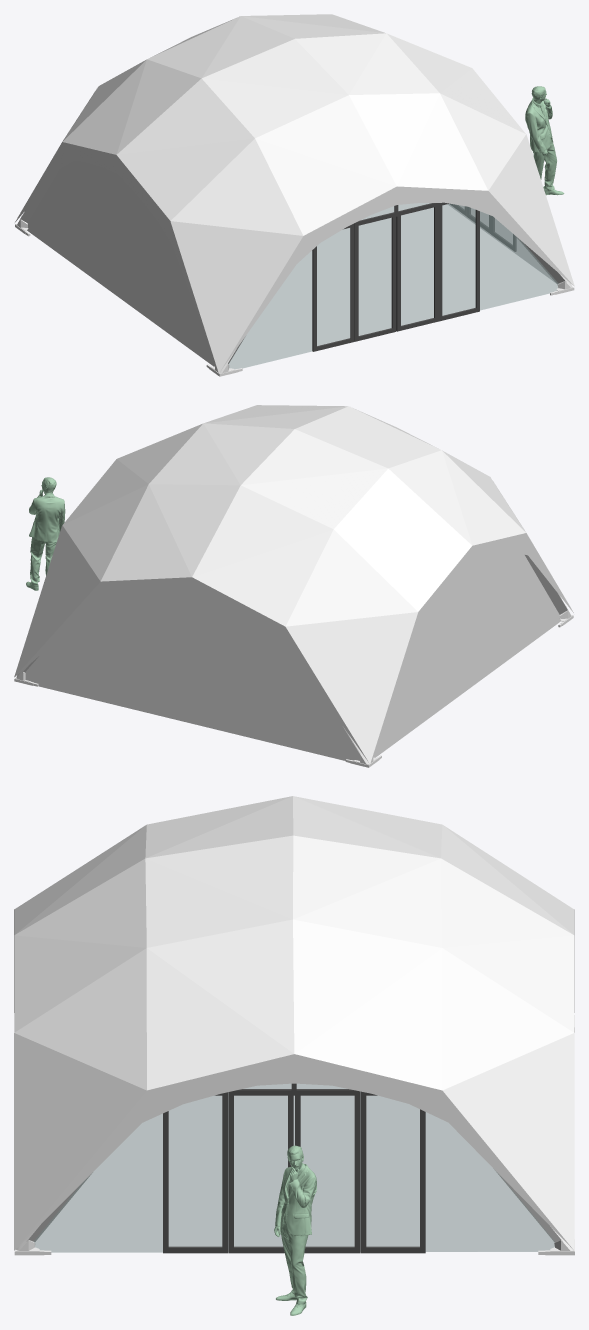
Rendered from eco36.glb.
3 views of the same model, one above another, from view 1: azimuth 30°, elevation 25°; view 2: azimuth 150°, elevation 25°; view 3: azimuth 270°, elevation 25° (orthographic). The views are drawn at different scales.
Parts seen in each view (by area): view 1: tent, windows-2, sidewall-1, logo-area-3, frame-2, logo-area-2, human, windows-1, frame-1; view 2: tent, sidewall-2, sidewall-1, logo-area-4, logo-area-1, human, Layer:Балки679; view 3: tent, windows-1, logo-area-1, logo-area-2, frame-1, human.
Part boxes in pixels (x1=…): tent: x1=15, y1=14, x2=574, y2=371; windows-2: x1=229, y1=203, x2=558, y2=369; sidewall-1: x1=27, y1=161, x2=214, y2=366; logo-area-3: x1=170, y1=221, x2=303, y2=373; frame-2: x1=312, y1=202, x2=479, y2=351; logo-area-2: x1=489, y1=134, x2=574, y2=286; human: x1=525, y1=86, x2=564, y2=195; windows-1: x1=448, y1=204, x2=554, y2=281; frame-1: x1=450, y1=204, x2=516, y2=251; tent: x1=15, y1=405, x2=573, y2=763; sidewall-2: x1=25, y1=593, x2=359, y2=760; sidewall-1: x1=373, y1=552, x2=560, y2=757; logo-area-4: x1=286, y1=612, x2=418, y2=763; logo-area-1: x1=14, y1=525, x2=99, y2=676; human: x1=26, y1=477, x2=65, y2=590; Layer:Балки679: x1=525, y1=555, x2=567, y2=614; tent: x1=14, y1=796, x2=574, y2=1250; windows-1: x1=33, y1=1083, x2=554, y2=1252; logo-area-1: x1=443, y1=1033, x2=574, y2=1250; logo-area-2: x1=14, y1=1033, x2=146, y2=1250; frame-1: x1=163, y1=1083, x2=425, y2=1253; human: x1=274, y1=1145, x2=316, y2=1315.
Size of the model in its own units: 76.43 by 36.12 by 60.75.
